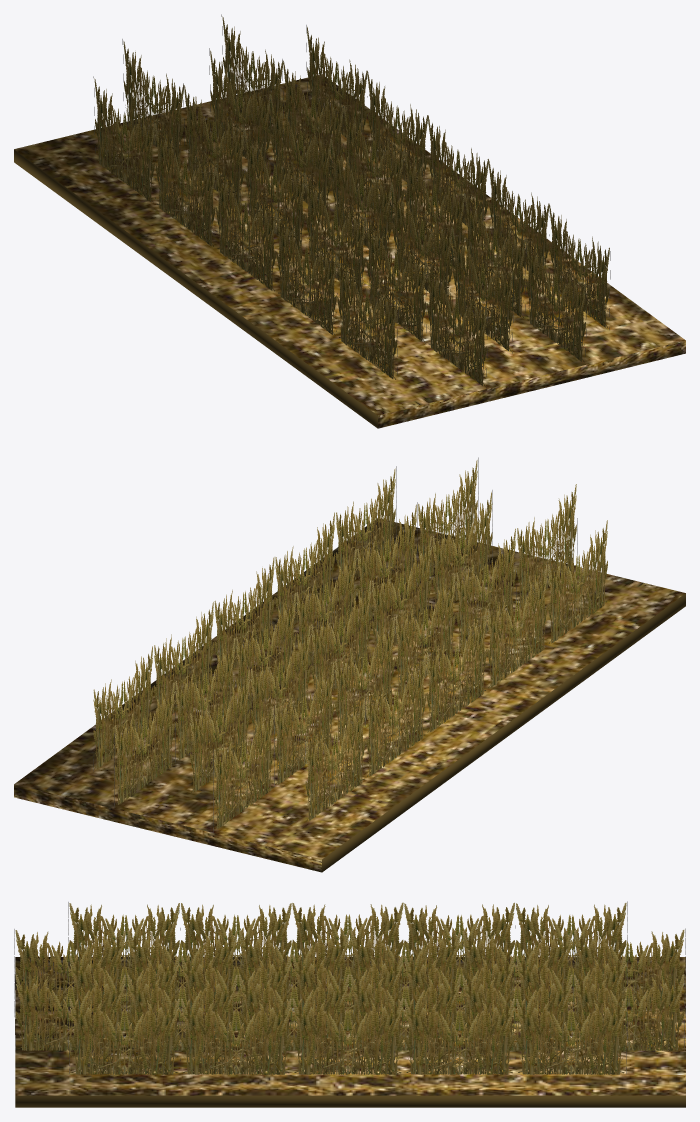
File: cf_ta_field2.obj
The picture shows the model from 3 angles, top to bottom: view 1: azimuth 30°, elevation 25°; view 2: azimuth 150°, elevation 25°; view 3: azimuth 270°, elevation 25°; orthographic projection. The views are drawn at different scales.
Visible parts, largest first — view 1: field_Cube.000; view 2: field_Cube.000; view 3: field_Cube.000.
Boxes of the visible parts, box(x1,y1,x2,y2) form: field_Cube.000: box(14, 14, 685, 428); field_Cube.000: box(14, 457, 685, 872); field_Cube.000: box(14, 901, 685, 1107).
Size of the model in its own units: 9.85 by 2.97 by 20.19.
